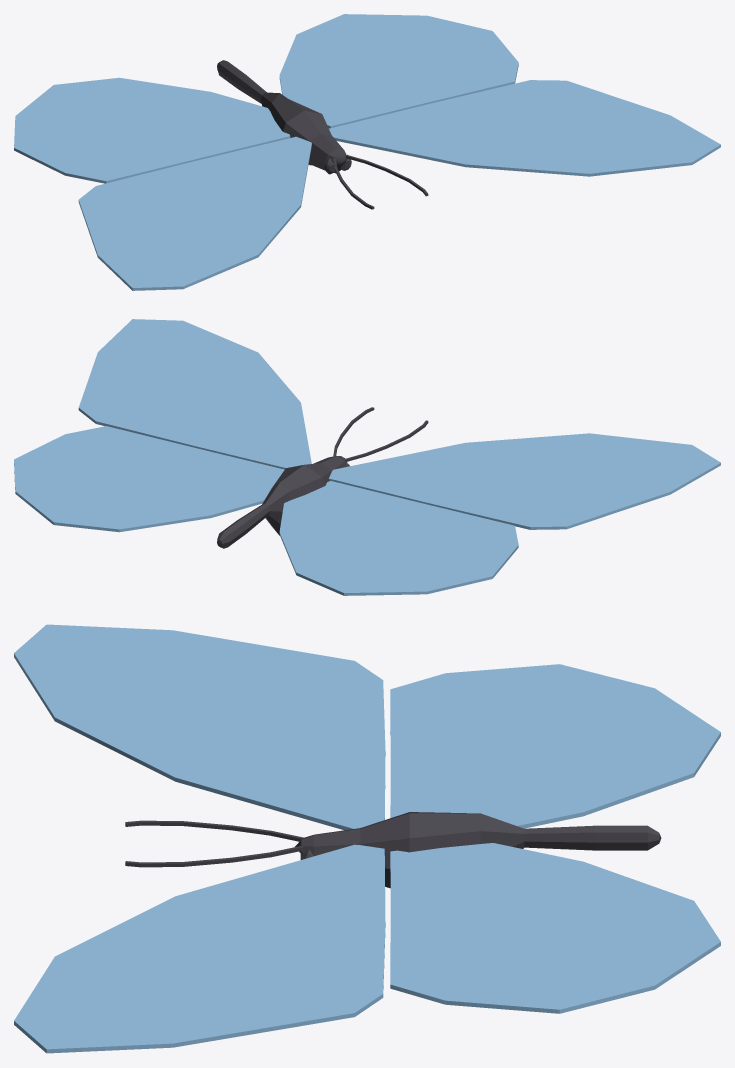
File: Butterfly.fbx
The picture shows the model from 3 angles, top to bottom: view 1: azimuth 30°, elevation 25°; view 2: azimuth 150°, elevation 25°; view 3: azimuth 270°, elevation 25°; orthographic projection. The views are drawn at different scales.
Parts seen in each view (by area): view 1: RightWing.001, LeftWing, Mesh_Butterfly; view 2: RightWing.001, LeftWing, Mesh_Butterfly; view 3: LeftWing, RightWing.001, Mesh_Butterfly.
Boxes of the visible parts, bbox=[...] form: RightWing.001: bbox=[14, 77, 311, 290]; LeftWing: bbox=[279, 14, 720, 176]; Mesh_Butterfly: bbox=[217, 60, 428, 209]; RightWing.001: bbox=[279, 433, 720, 595]; LeftWing: bbox=[14, 319, 311, 532]; Mesh_Butterfly: bbox=[217, 407, 428, 548]; LeftWing: bbox=[14, 843, 720, 1053]; RightWing.001: bbox=[14, 624, 720, 830]; Mesh_Butterfly: bbox=[125, 812, 661, 888].
Bounding box in the file's own units: 9361 × 820 × 6583.
